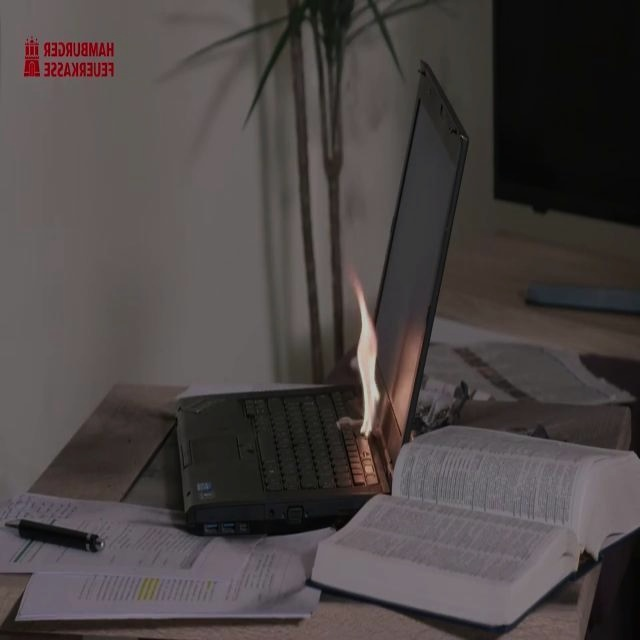fire: (334, 277, 400, 443)
